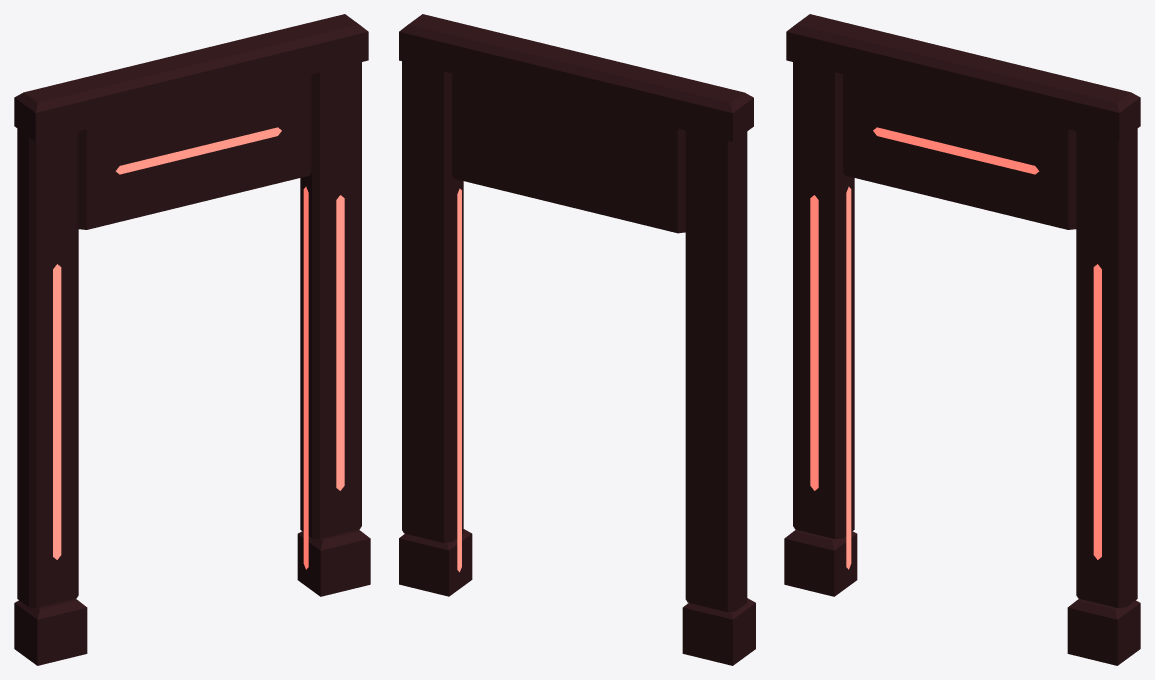
File: doorway_nightmare.glb
3 renders of one model, left to right at view 1: azimuth 30°, elevation 25°; view 2: azimuth 150°, elevation 25°; view 3: azimuth 330°, elevation 25°, orthographic.
Parts seen in each view (by area): view 1: Mesh; view 2: Mesh; view 3: Mesh.
Boxes of the visible parts, bbox=[...] form: Mesh: bbox=[14, 14, 370, 665]; Mesh: bbox=[399, 14, 755, 665]; Mesh: bbox=[784, 14, 1140, 665].
Size of the model in its own units: 2 by 3.2 by 0.24.
